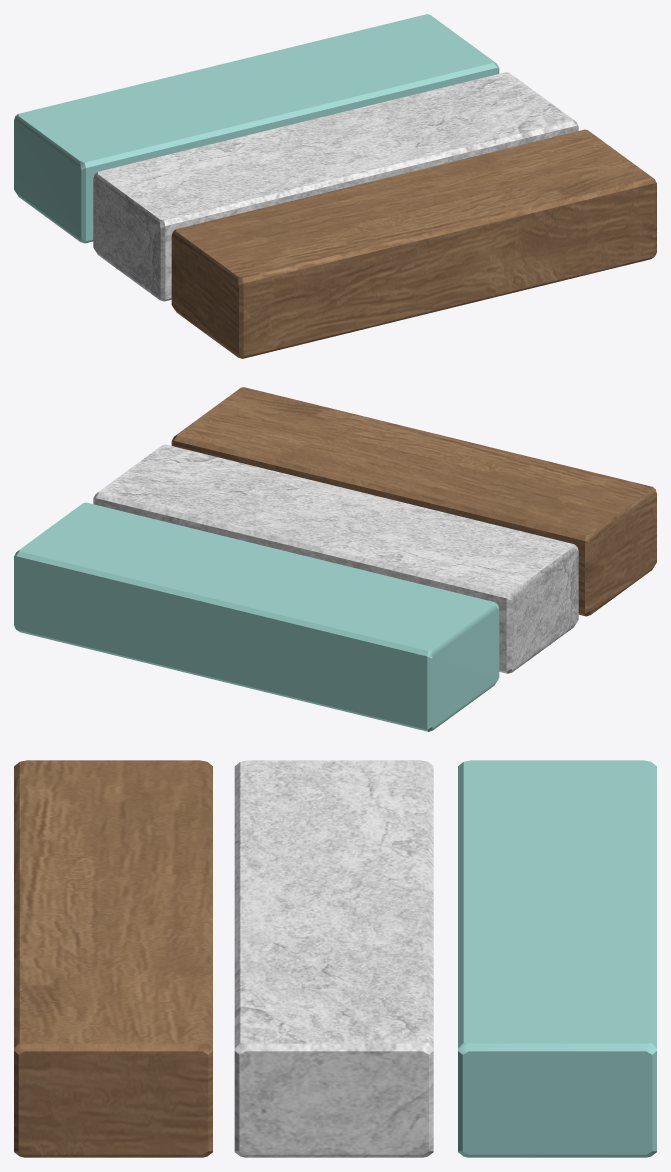
The model's file is Jenca_Tiles.fbx.
The picture shows the model from 3 angles, top to bottom: view 1: azimuth 30°, elevation 25°; view 2: azimuth 150°, elevation 25°; view 3: azimuth 270°, elevation 25°; orthographic projection. The views are drawn at different scales.
Visible parts, largest first — view 1: Wood, Glass, Stone; view 2: Glass, Stone, Wood; view 3: Stone, Wood, Glass.
Boxes of the visible parts, left/top/right/bottom form: Wood: left=171, top=129, right=656, bottom=358; Glass: left=14, top=14, right=499, bottom=243; Stone: left=93, top=72, right=578, bottom=301; Glass: left=14, top=502, right=499, bottom=731; Stone: left=93, top=444, right=578, bottom=673; Wood: left=171, top=387, right=656, bottom=616; Stone: left=234, top=760, right=433, bottom=1157; Wood: left=14, top=760, right=212, bottom=1157; Glass: left=458, top=760, right=656, bottom=1157.
Size of the model in its own units: 2.99 by 0.5538 by 2.83.
